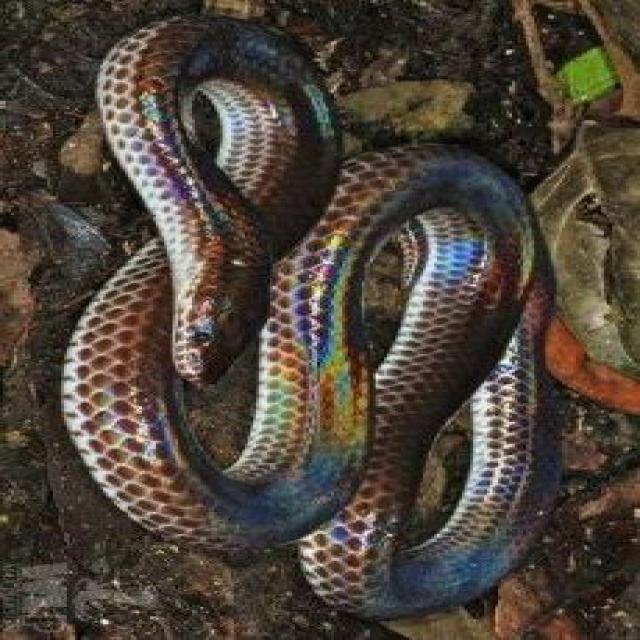Non-Venomous: (135, 165, 275, 382)
